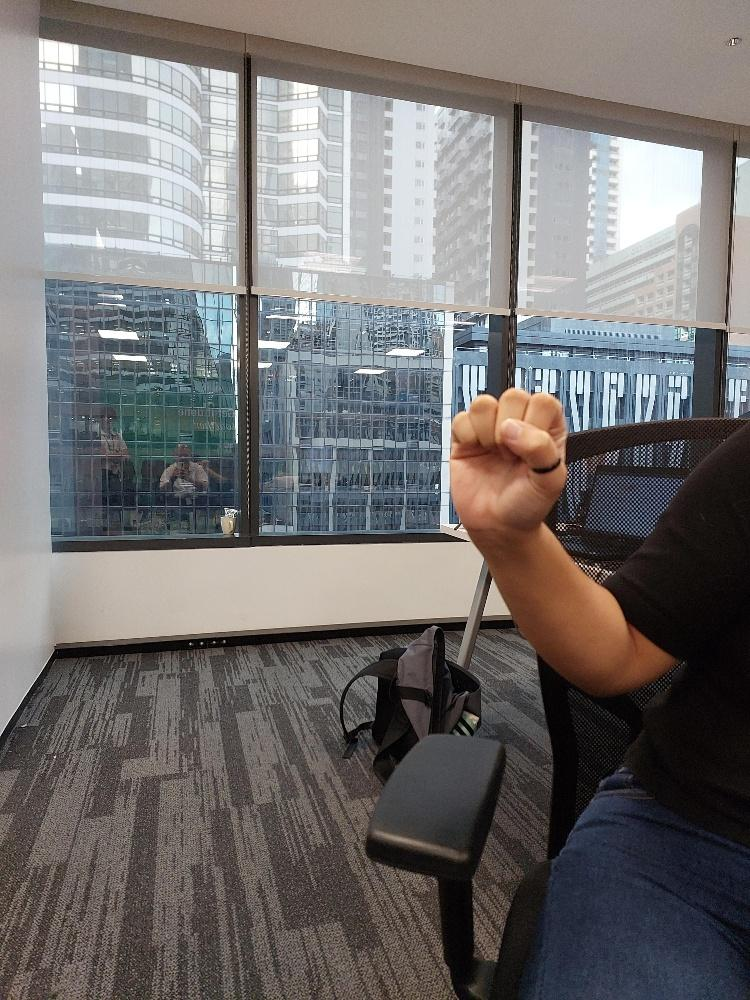s: (445, 383, 570, 544)
